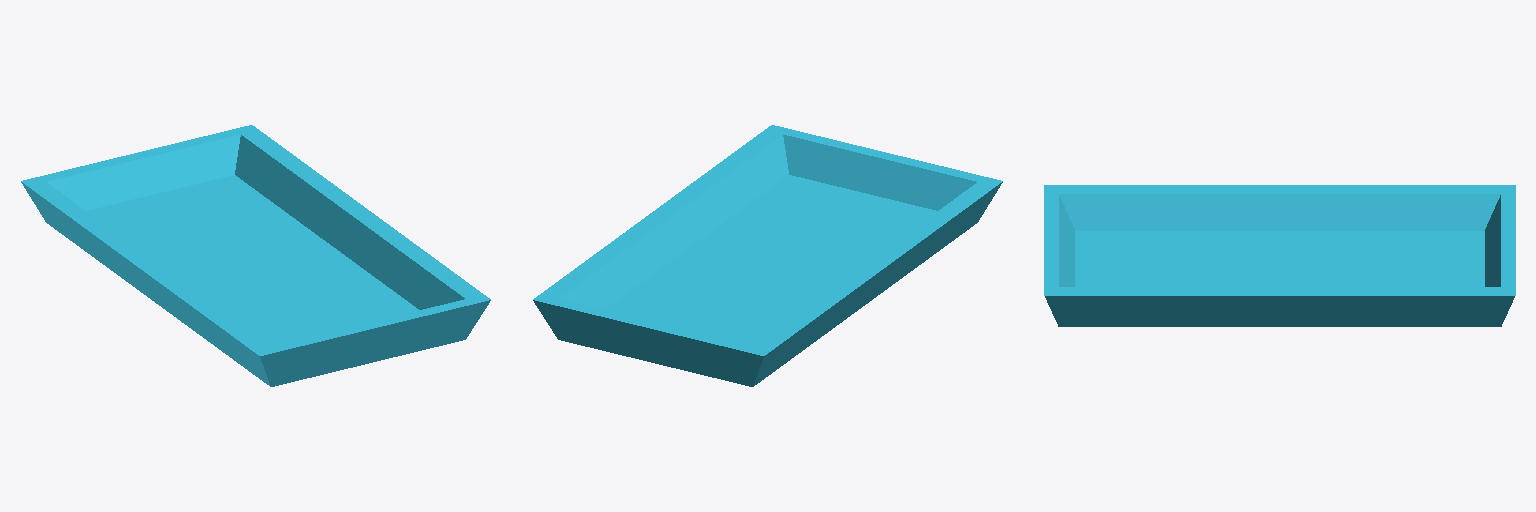
The robot description file, URDF, robot "tray.SLDPRT":
<?xml version="1.0" encoding="utf-8"?>
<!-- This URDF was automatically created by SolidWorks to URDF Exporter! Originally created by [author] ([email redacted]) 
     Commit Version: 1.5.1-0-g916b5db  Build Version: 1.5.7152.31018
     For more information, please see http://wiki.ros.org/sw_urdf_exporter -->
<robot
  name="tray.SLDPRT">
  <link
    name="tray.SLDPRT">
    <inertial>
      <origin
        xyz="-2.8472E-17 1.84601259873727E-17 0.0069104"
        rpy="0 0 0" />
      <mass
        value="2.18496" />
      <inertia
        ixx="2.00078859"
        ixy="2.2885E-19"
        ixz="2.8E-20"
        iyy="2.00026969"
        iyz="7.83334618632542E-20"
        izz="2.0010458" />
    </inertial>
    <visual>
      <origin
        xyz="0 0 0"
        rpy="1.5707963267949 0 0" />
      <geometry>
        <mesh
          filename="models/meshes/tray/tray.SLDPRT.STL" scale="2 2 2"/>
      </geometry>
      <material
        name="">
        <color
          rgba="0.29216 0.81961 0.93333 1" />
        <texture
          filename="models/textures/" />
      </material>
    </visual>
    <collision concave="yes">
      <origin
        xyz="0 0 0"
        rpy="1.5707963267949 0 0" />
      <geometry>
        <mesh
          filename="models/meshes/tray/tray.SLDPRT.STL" scale="2 2 2" />
      </geometry>
    </collision>
  </link>
</robot>

--- Facts derived from the render (not from the file) ---
Views: 3 orthographic renders of the robot side by side, from view 1: azimuth 30°, elevation 25°; view 2: azimuth 150°, elevation 25°; view 3: azimuth 270°, elevation 25°.
Model tray.SLDPRT with 1 links and 0 joints (none), rooted at tray.SLDPRT, posed every joint at zero.
Links seen in each view (by area): view 1: tray.SLDPRT; view 2: tray.SLDPRT; view 3: tray.SLDPRT.
Boxes of the visible links, box(x1,y1,x2,y2) form: tray.SLDPRT: box(21, 125, 490, 386); tray.SLDPRT: box(533, 125, 1002, 386); tray.SLDPRT: box(1044, 185, 1515, 326).
Bounding box of the posed robot: 0.2378 × 0.4258 × 0.04 m (x, y, z).
Meshes: 1 distinct files referenced, 1 mesh visuals loaded (1 binary STL).